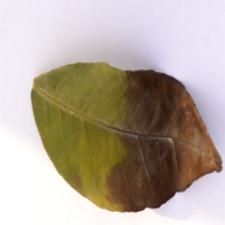Black: (115, 61, 222, 222)
